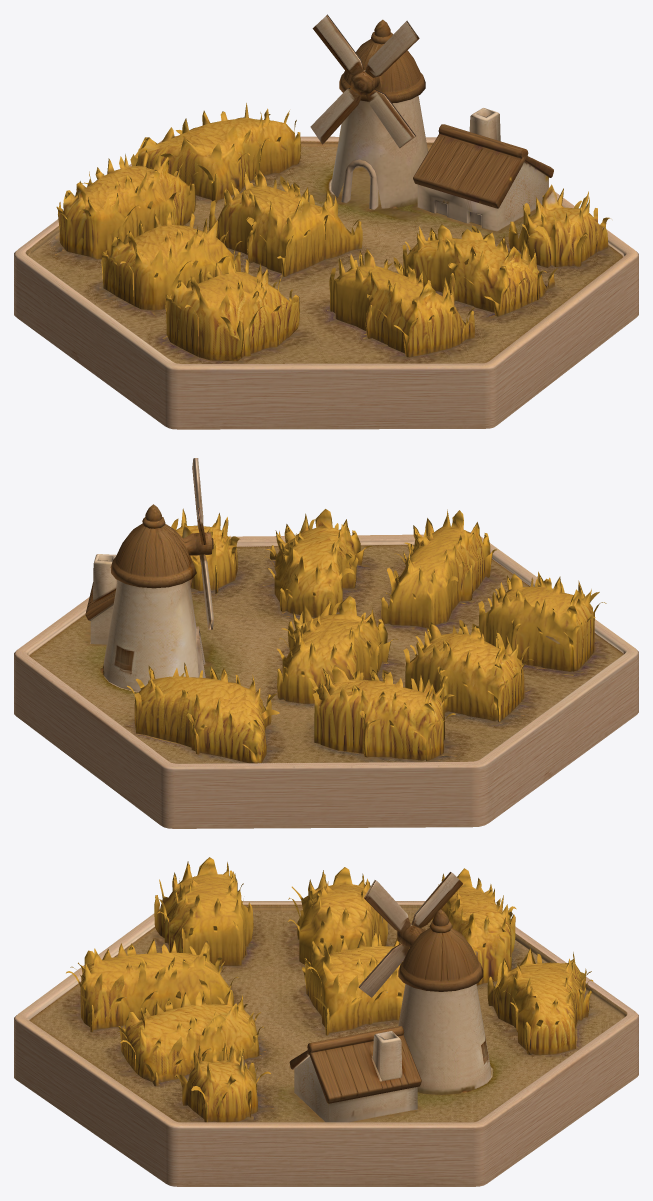
File: pilot_grain.glb
3 renders of one model, top to bottom at view 1: azimuth 30°, elevation 25°; view 2: azimuth 150°, elevation 25°; view 3: azimuth 270°, elevation 25°, orthographic.
Visible parts, largest first — view 1: tripo_node_a32b224b-47d9-4449-9eba-37dae84c3fb7; view 2: tripo_node_a32b224b-47d9-4449-9eba-37dae84c3fb7; view 3: tripo_node_a32b224b-47d9-4449-9eba-37dae84c3fb7.
Part boxes in pixels (<box>): tripo_node_a32b224b-47d9-4449-9eba-37dae84c3fb7: <box>14,14,638,429</box>; tripo_node_a32b224b-47d9-4449-9eba-37dae84c3fb7: <box>14,458,638,828</box>; tripo_node_a32b224b-47d9-4449-9eba-37dae84c3fb7: <box>14,857,638,1186</box>.
Size of the model in its own units: 0.8579 by 0.4302 by 0.9995.
Materials: 1 (1 with a texture image).
